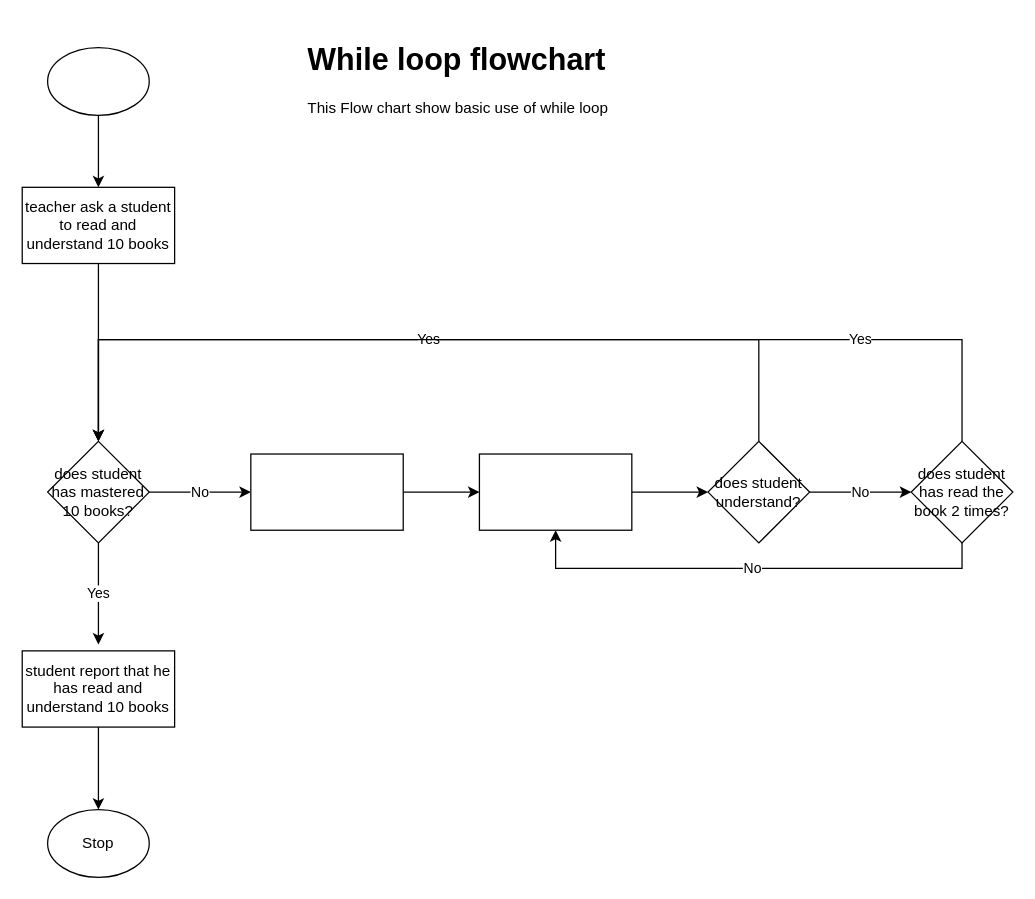
The diagram is 1035 pixels wide and 899 high, and some of its shapes have lost their labels. Here are the shapes that lost their labels. From the top down, the centre of each, then its label:
the point at 97,80: Start
the point at 326,491: Student read 1 book that he never read
the point at 555,491: Student read the book that he doesn't understand
